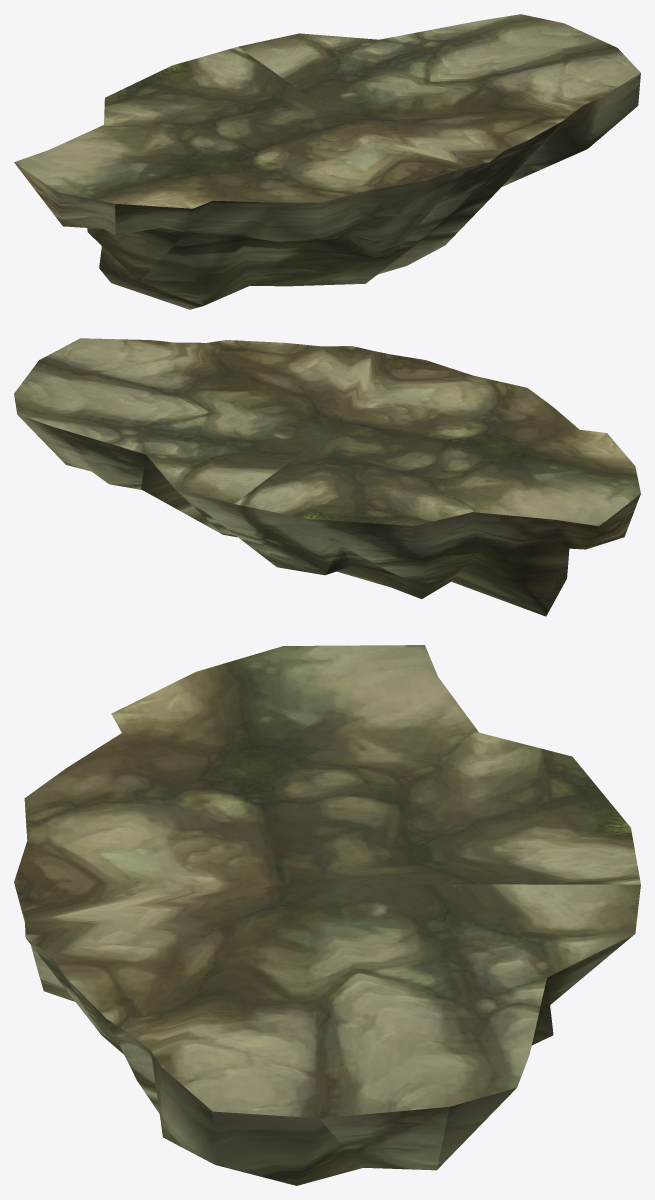
File: test_road01.FBX
The picture shows the model from 3 angles, top to bottom: view 1: azimuth 30°, elevation 25°; view 2: azimuth 150°, elevation 25°; view 3: azimuth 270°, elevation 25°; orthographic projection. The views are drawn at different scales.
Parts seen in each view (by area): view 1: ZQ_ygzm_yunshi03_wyb; view 2: ZQ_ygzm_yunshi03_wyb; view 3: ZQ_ygzm_yunshi03_wyb.
Boxes of the visible parts, x1,y1,x2,y2 form: ZQ_ygzm_yunshi03_wyb: (14, 14, 640, 309); ZQ_ygzm_yunshi03_wyb: (14, 338, 640, 616); ZQ_ygzm_yunshi03_wyb: (14, 645, 640, 1185).
Size of the model in its own units: 17.96 by 10.14 by 4.53.
